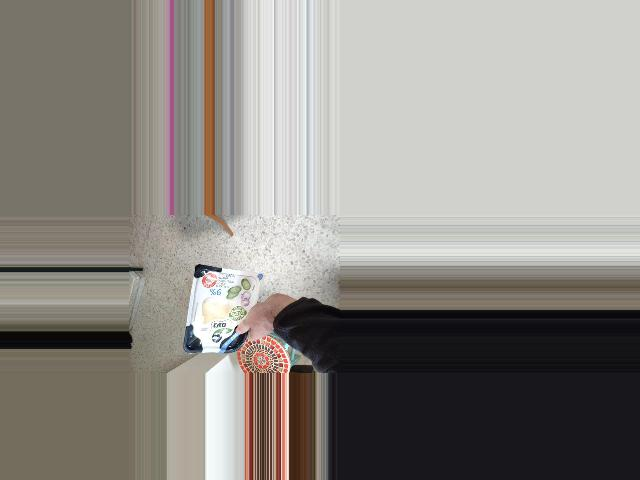cheese: (206, 267, 275, 337)
